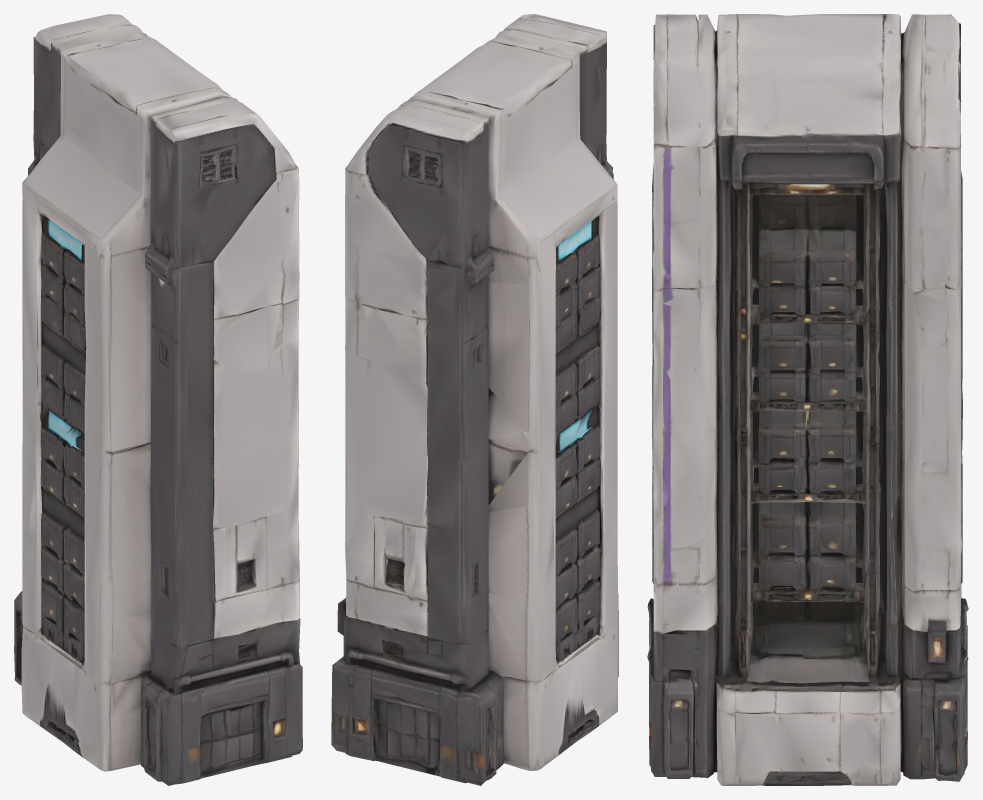
File: rackBay.glb
3 views of the same model, side by side, from view 1: azimuth 30°, elevation 25°; view 2: azimuth 150°, elevation 25°; view 3: azimuth 270°, elevation 25° (orthographic). The views are drawn at different scales.
Visible parts, largest first — view 1: rackBay; view 2: rackBay; view 3: rackBay.
Part boxes in pixels (x1=…): rackBay: x1=14, y1=14, x2=302, y2=785; rackBay: x1=331, y1=14, x2=618, y2=785; rackBay: x1=647, y1=14, x2=968, y2=785.
Size of the model in its own units: 9 by 30 by 12.5.
Materials: 1 (1 with a texture image).
